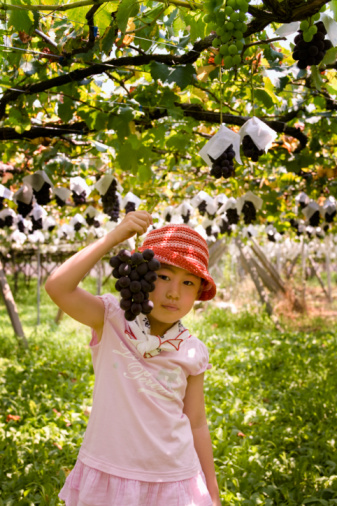em pe: (14, 214, 234, 506)
